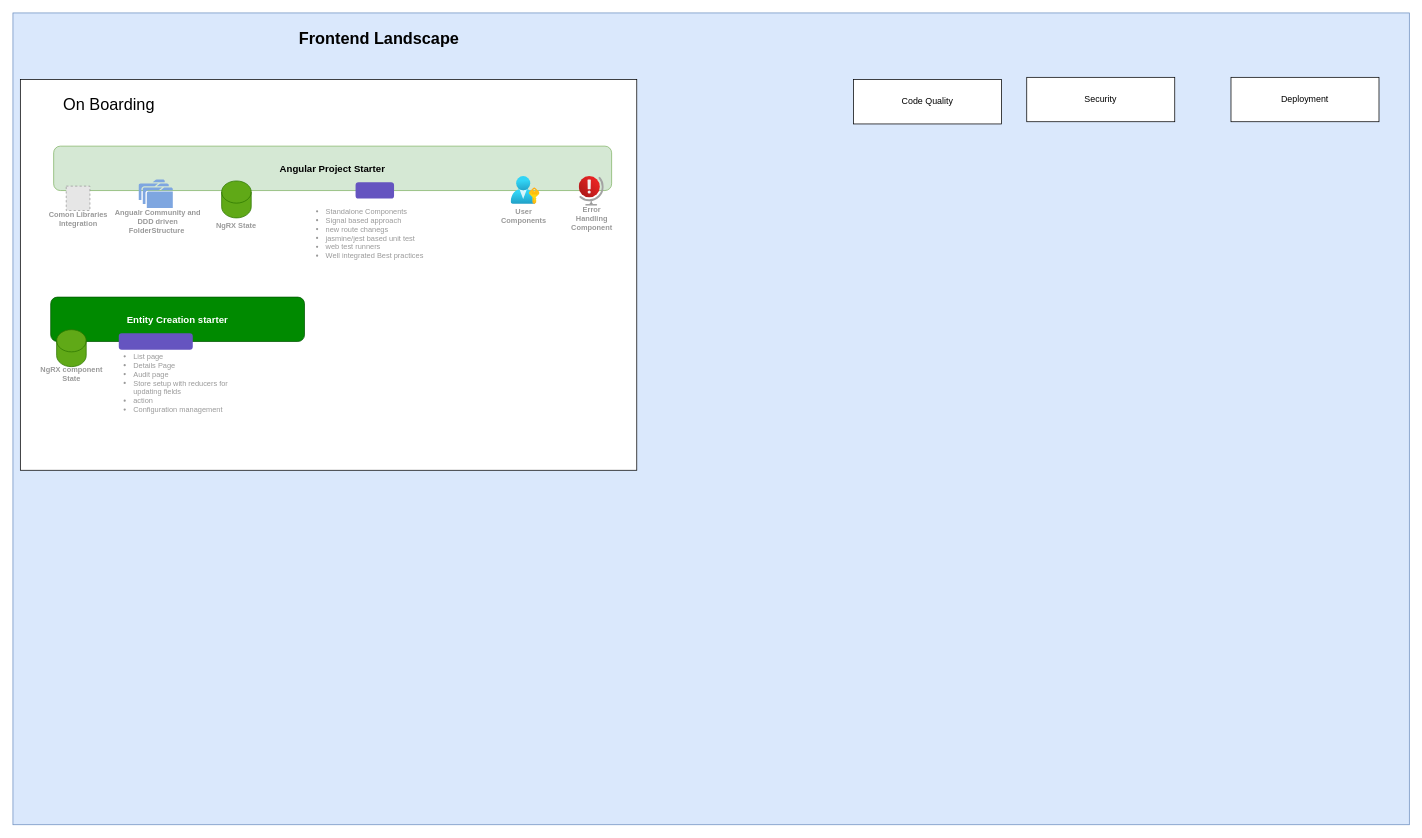
Some shapes in this 1422 by 838 pixel diagram are drawn without their labels. Grey dashed boxes stand in for pictures. Each missing label, with the centre of its shape:
"Components" belongs at (x=155, y=341).
"NEW" belongs at (x=374, y=190).
